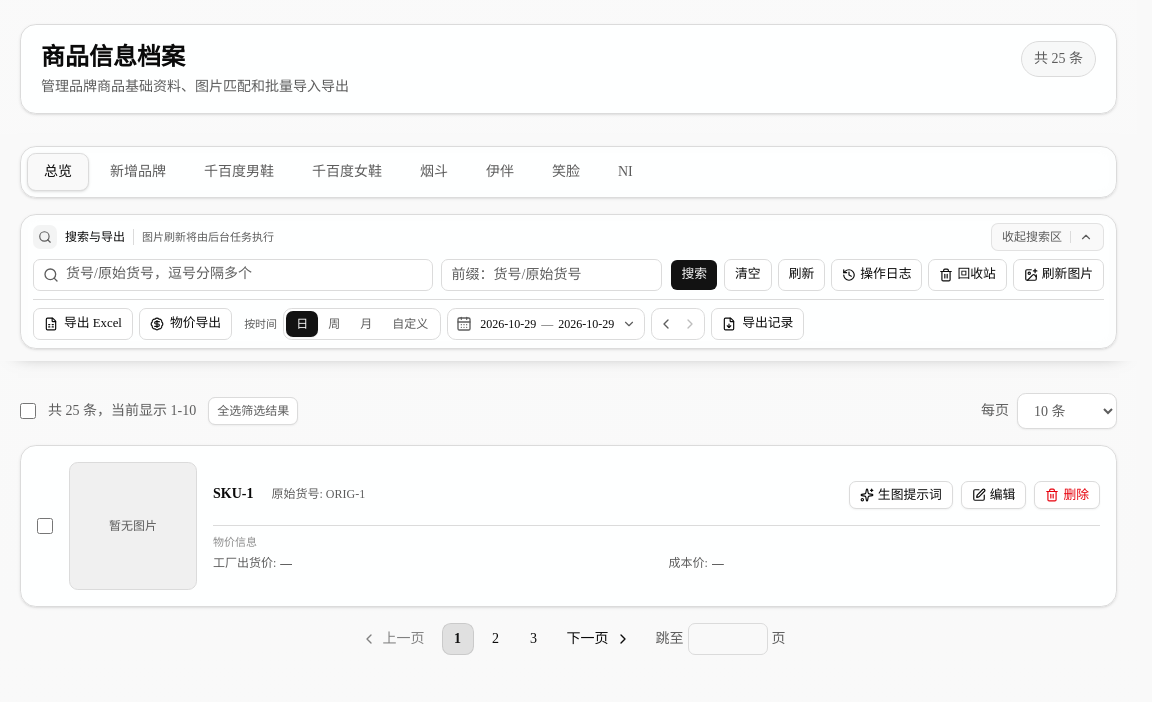
Test case: canceling deletion does not mutate and keeps selections until explicitly cleared
expect the checkbox named "选择当前页全部商品" is enabled: met, box [20,403,36,419]
Click the checkbox named "选择商品 SKU-1".
click(45, 526)  # box [37,518,53,534]
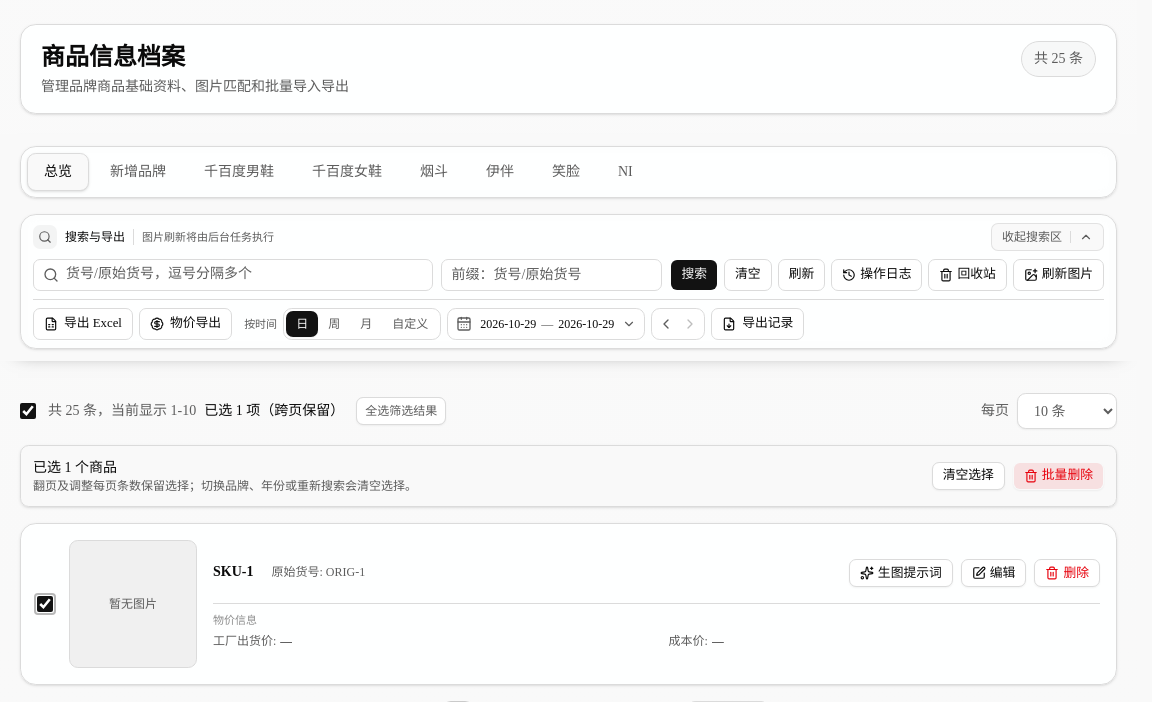
Click the button "批量删除".
click(1058, 476)  # box [1013,462,1104,490]
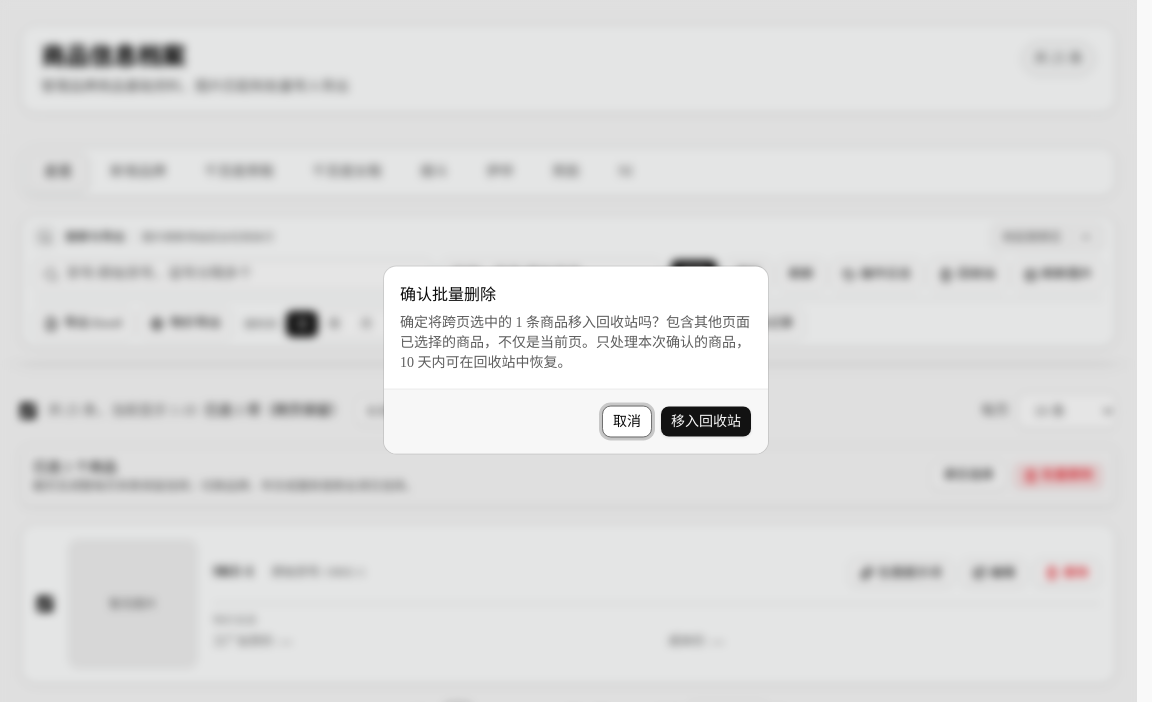
Click the button "取消".
click(627, 422)  # box [602,406,652,438]
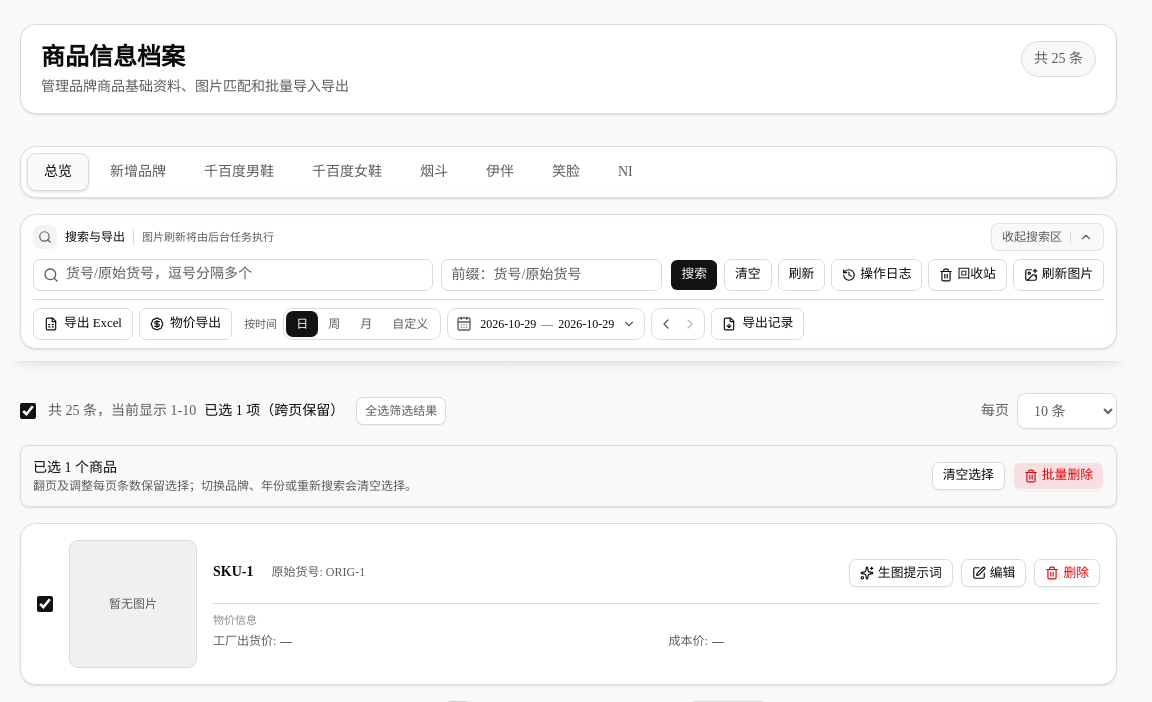
expect the text "已选 1 个商品" is shown: met, box [33,460,117,475]
Click the button "清空选择".
click(968, 476)  # box [932,462,1005,490]
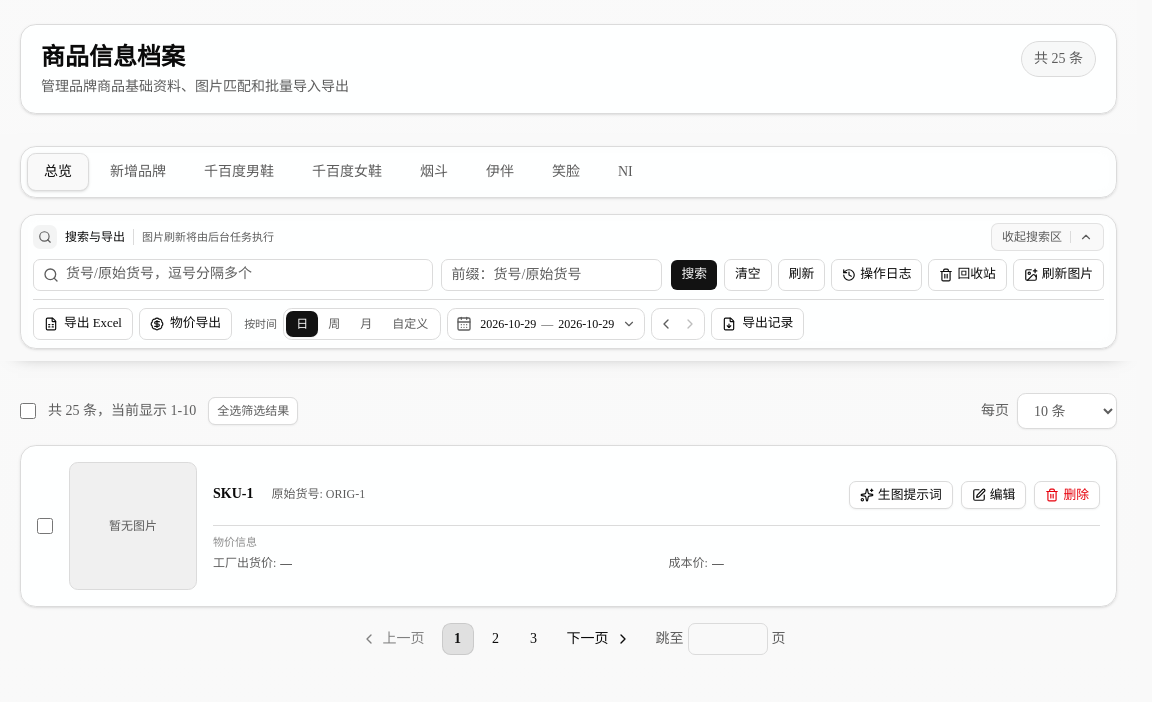
expect the button "批量删除" is gone: met
